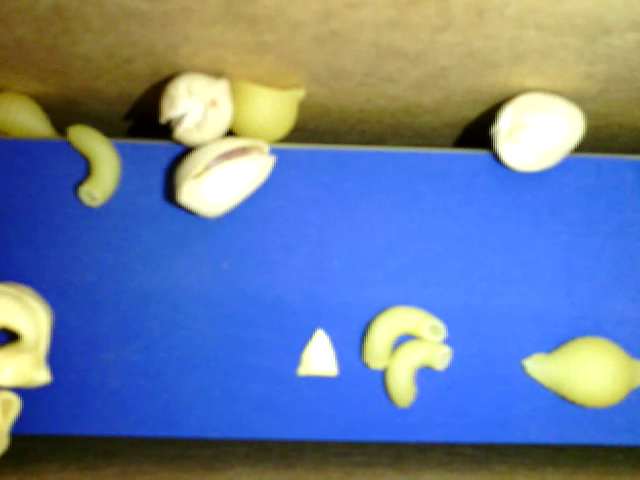elbow: (362, 306, 446, 373), (63, 123, 125, 207), (385, 338, 451, 410)
shell: (518, 334, 639, 410), (227, 76, 307, 145), (1, 87, 62, 138)
tortellini: (1, 284, 56, 386)
